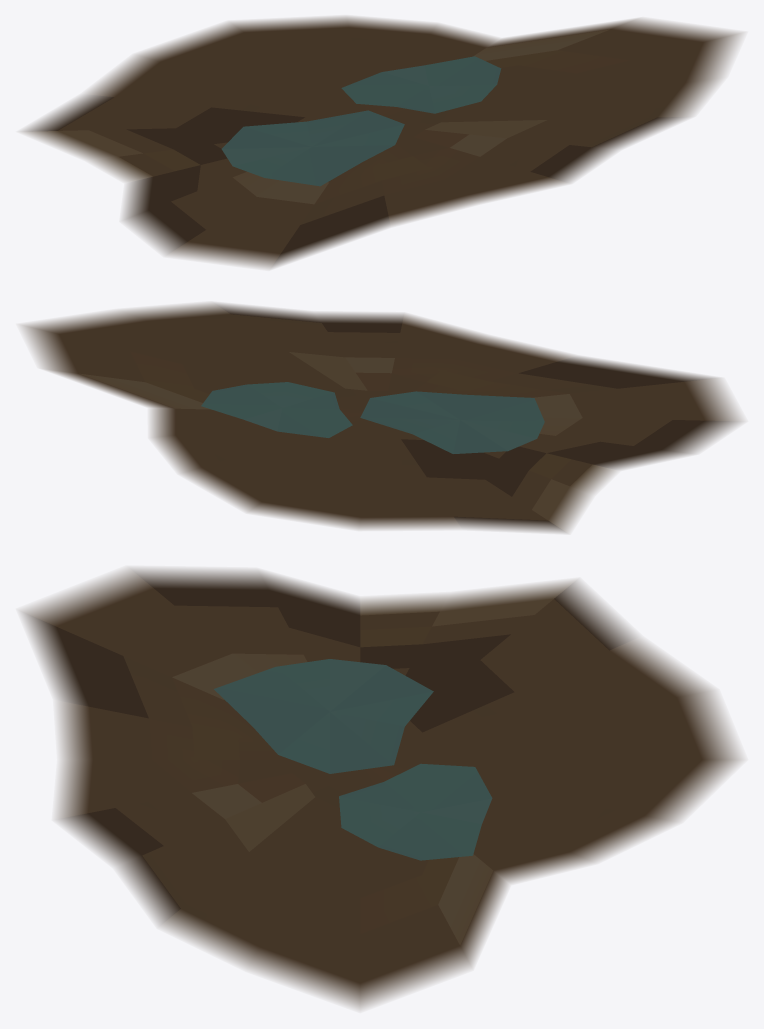
Rendered from swamp_a_low.glb.
3 renders of one model, top to bottom at view 1: azimuth 30°, elevation 25°; view 2: azimuth 150°, elevation 25°; view 3: azimuth 270°, elevation 25°, orthographic. The views are drawn at different scales.
Visible parts, largest first — view 1: swamp_a; view 2: swamp_a; view 3: swamp_a.
Boxes of the visible parts, <box> form: swamp_a: <box>21,16,742,268</box>; swamp_a: <box>21,303,742,532</box>; swamp_a: <box>21,568,742,1009</box>.
Bounding box in the file's own units: 6.16 × 0.015 × 4.26.
